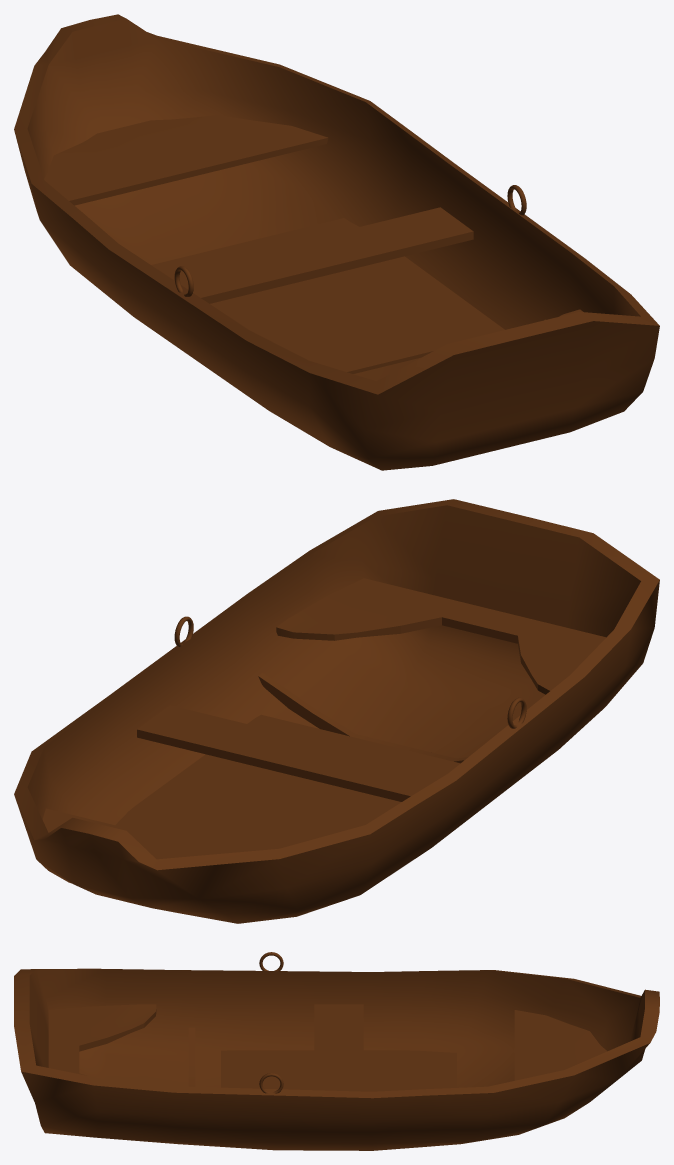
The model's file is RowBoat_Mesh.fbx.
3 renders of one model, top to bottom at view 1: azimuth 30°, elevation 25°; view 2: azimuth 150°, elevation 25°; view 3: azimuth 270°, elevation 25°, orthographic. The views are drawn at different scales.
Parts seen in each view (by area): view 1: Boat; view 2: Boat; view 3: Boat.
Part boxes in pixels (x1,y1,x2,y2): Boat: (14,14,659,470); Boat: (14,499,659,923); Boat: (14,952,659,1150).
Bounding box in the file's own units: 155 × 73.68 × 336.
